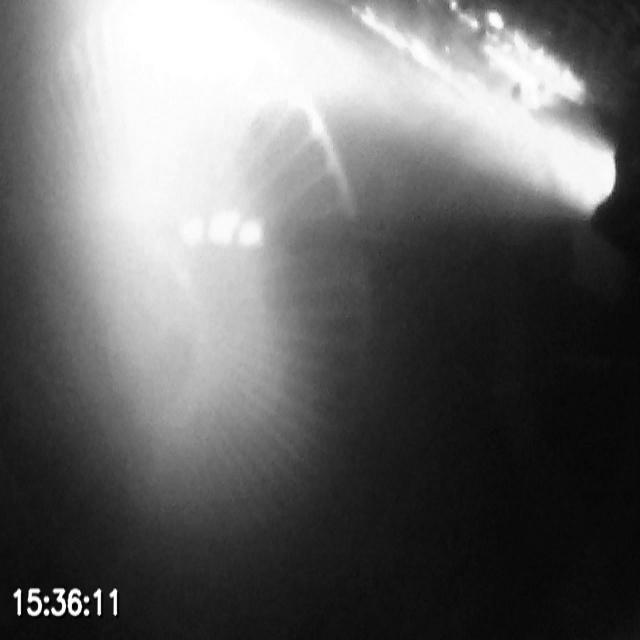white-dots: (178, 208, 265, 247)
